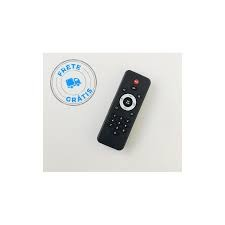remote control: (94, 62, 152, 155)
